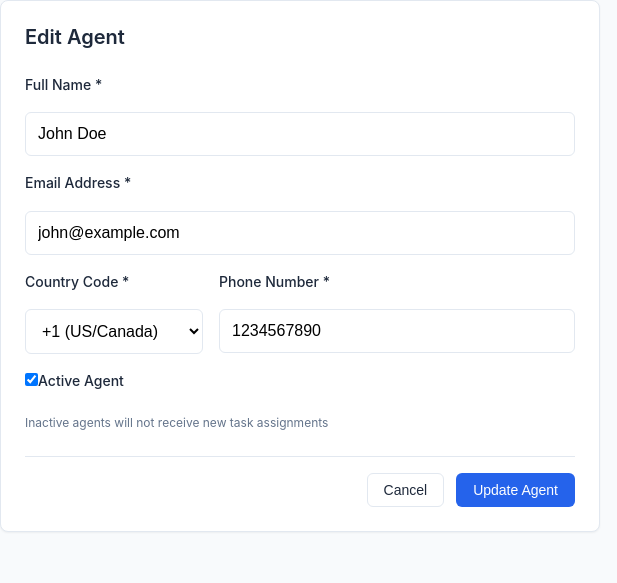
it: EditAgent › handles server validation errors
This screenshot has width=617, height=583.
Click the button "Update Agent" at (516, 490), box [456,473,575,507]
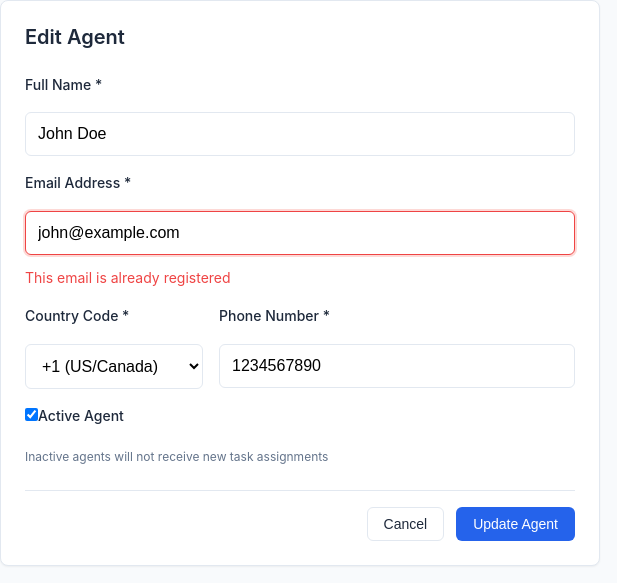
expect the text "This email is already registered" is shown: met, box [25,269,231,286]
